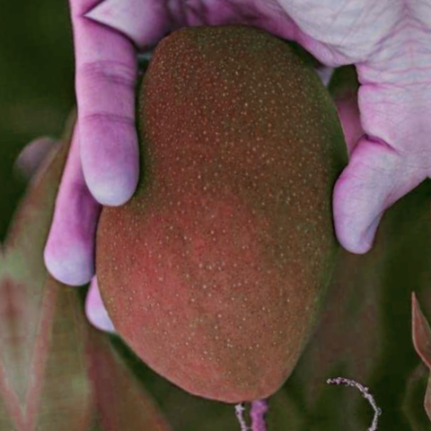mango: (0, 0, 427, 431)
